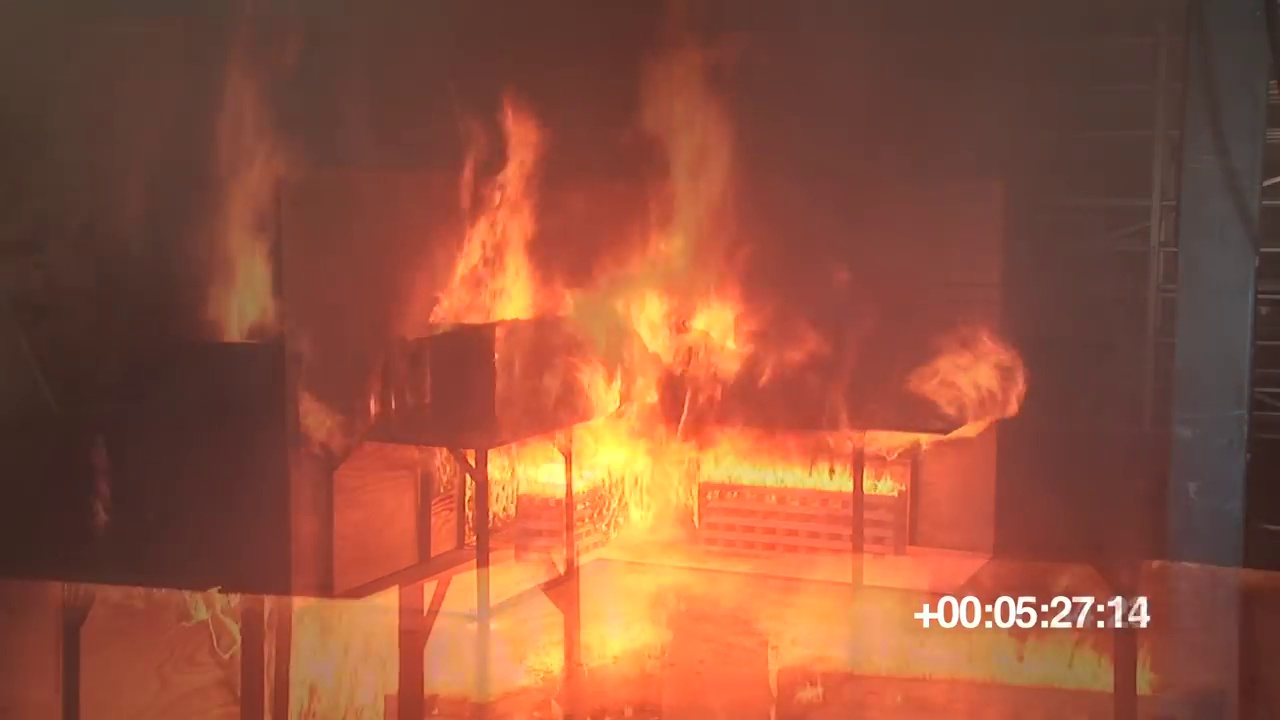fire: (615, 202, 768, 380), (491, 429, 900, 494), (441, 108, 551, 316), (923, 330, 1030, 434)
